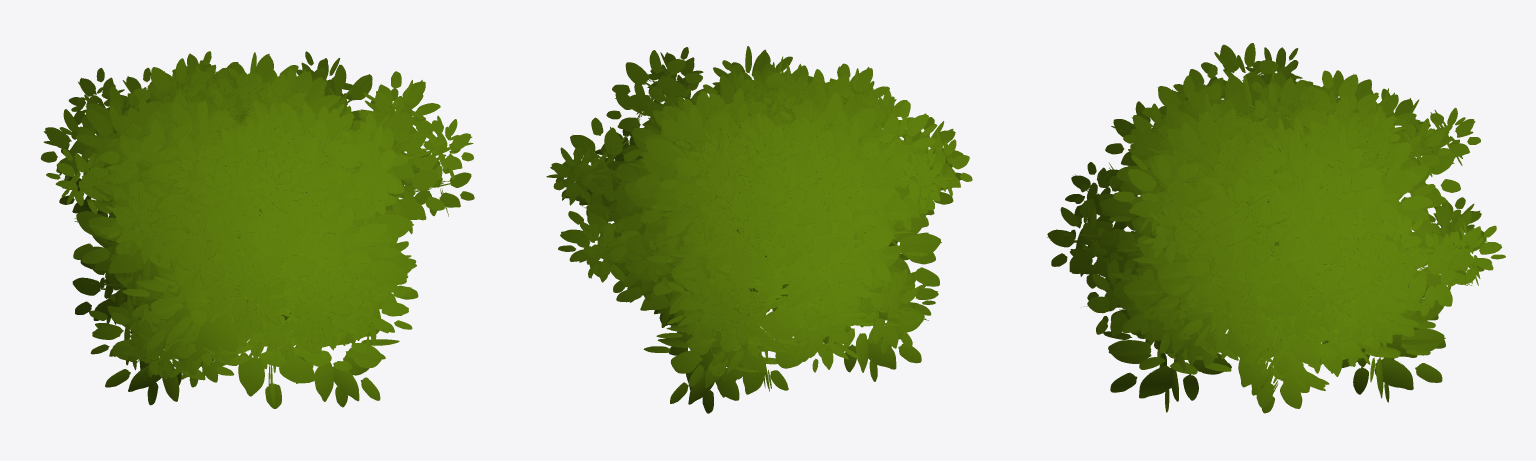
File: Bush_Common.gltf
The picture shows the model from 3 angles, left to right: view 1: azimuth 30°, elevation 25°; view 2: azimuth 150°, elevation 25°; view 3: azimuth 270°, elevation 25°; orthographic projection. The views are drawn at different scales.
Visible parts, largest first — view 1: Bush_Common; view 2: Bush_Common; view 3: Bush_Common.
Boxes of the visible parts, bbox=[...] form: Bush_Common: bbox=[40, 51, 474, 408]; Bush_Common: bbox=[546, 46, 972, 413]; Bush_Common: bbox=[1047, 43, 1505, 413].
Size of the model in its own units: 1.91 by 1.58 by 1.97.
1 material, 1 textured.
